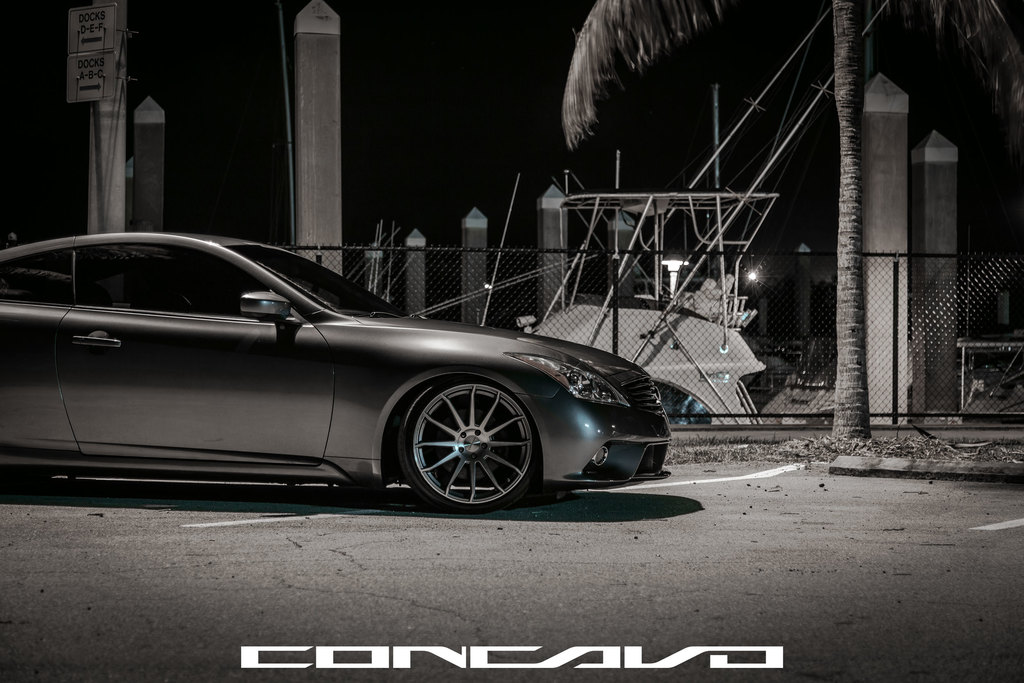Car: (5, 226, 679, 520)
